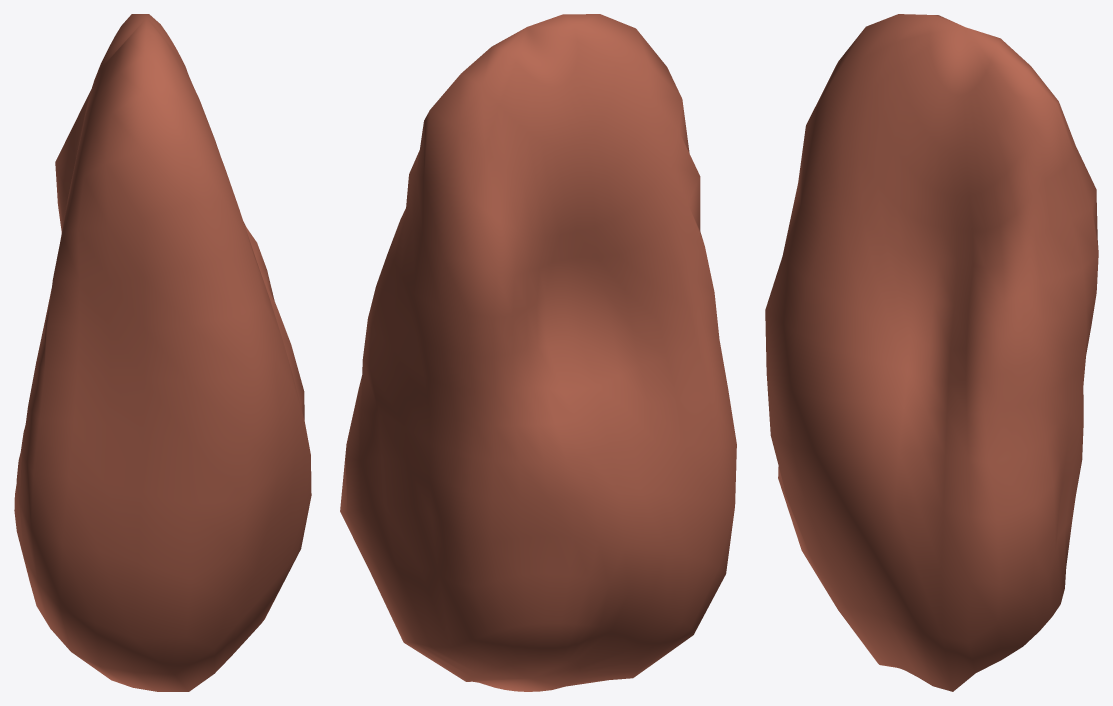
The model's file is rock6.fbx.
3 views of the same model, side by side, from view 1: azimuth 30°, elevation 25°; view 2: azimuth 150°, elevation 25°; view 3: azimuth 270°, elevation 25° (orthographic). The views are drawn at different scales.
Parts seen in each view (by area): view 1: Sphere; view 2: Sphere; view 3: Sphere.
Part boxes in pixels (x1=…): Sphere: x1=14, y1=14, x2=311, y2=691; Sphere: x1=340, y1=14, x2=736, y2=691; Sphere: x1=765, y1=14, x2=1098, y2=691.
Size of the model in its own units: 558 by 1093 by 514.
